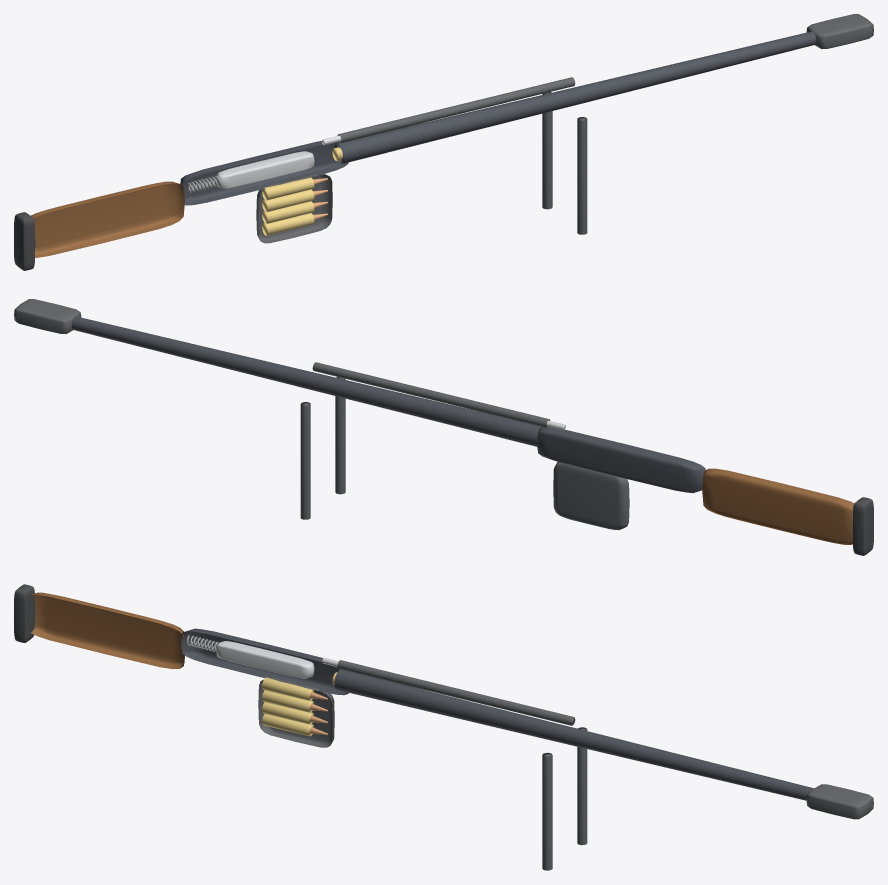
The model's file is ptrs41-cut.glb.
3 views of the same model, one above another, from view 1: azimuth 30°, elevation 25°; view 2: azimuth 150°, elevation 25°; view 3: azimuth 330°, elevation 25° (orthographic).
Visible parts, largest first — view 1: barrel_1220mm, wood_stock, receiver_ptrs, gas_tube_ptrs, bolt_carrier_ptrs, mag_5rd_clip, muzzle_brake_ptrs, bipod_leg_R, recoil_pad, bipod_leg_L, mag_case_0, mag_case_1 (+2 smaller); view 2: barrel_1220mm, wood_stock, receiver_ptrs, mag_5rd_clip, gas_tube_ptrs, muzzle_brake_ptrs, bipod_leg_L, recoil_pad, bipod_leg_R; view 3: barrel_1220mm, wood_stock, receiver_ptrs, gas_tube_ptrs, bolt_carrier_ptrs, mag_5rd_clip, muzzle_brake_ptrs, bipod_leg_R, recoil_pad, bipod_leg_L, mag_case_0, mag_case_2 (+2 smaller).
Part boxes in pixels (x1,y1,x2,y2): barrel_1220mm: (334, 31, 816, 163); wood_stock: (31, 181, 184, 257); receiver_ptrs: (180, 141, 348, 205); gas_tube_ptrs: (337, 77, 575, 142); bolt_carrier_ptrs: (216, 151, 314, 189); mag_5rd_clip: (256, 174, 332, 243); muzzle_brake_ptrs: (806, 14, 873, 48); bipod_leg_R: (577, 117, 587, 234); recoil_pad: (14, 212, 35, 270); bipod_leg_L: (542, 92, 552, 209); mag_case_0: (262, 177, 314, 200); mag_case_1: (262, 189, 314, 212); barrel_1220mm: (71, 316, 541, 446); wood_stock: (702, 468, 854, 544); receiver_ptrs: (537, 427, 705, 493); mag_5rd_clip: (553, 462, 629, 530); gas_tube_ptrs: (312, 362, 550, 427); muzzle_brake_ptrs: (14, 299, 81, 333); bipod_leg_L: (300, 402, 310, 519); recoil_pad: (852, 497, 873, 555); bipod_leg_R: (335, 377, 345, 494); barrel_1220mm: (334, 669, 813, 800); wood_stock: (31, 592, 185, 669); receiver_ptrs: (181, 628, 348, 695); gas_tube_ptrs: (337, 660, 575, 725); bolt_carrier_ptrs: (216, 641, 314, 678); mag_5rd_clip: (258, 677, 334, 747); muzzle_brake_ptrs: (806, 784, 873, 819); bipod_leg_R: (542, 752, 552, 870); recoil_pad: (14, 584, 35, 642); bipod_leg_L: (577, 727, 587, 845); mag_case_0: (262, 677, 314, 700); mag_case_2: (262, 702, 314, 724).
Size of the model in its own units: 2.12 by 0.334 by 0.172.
